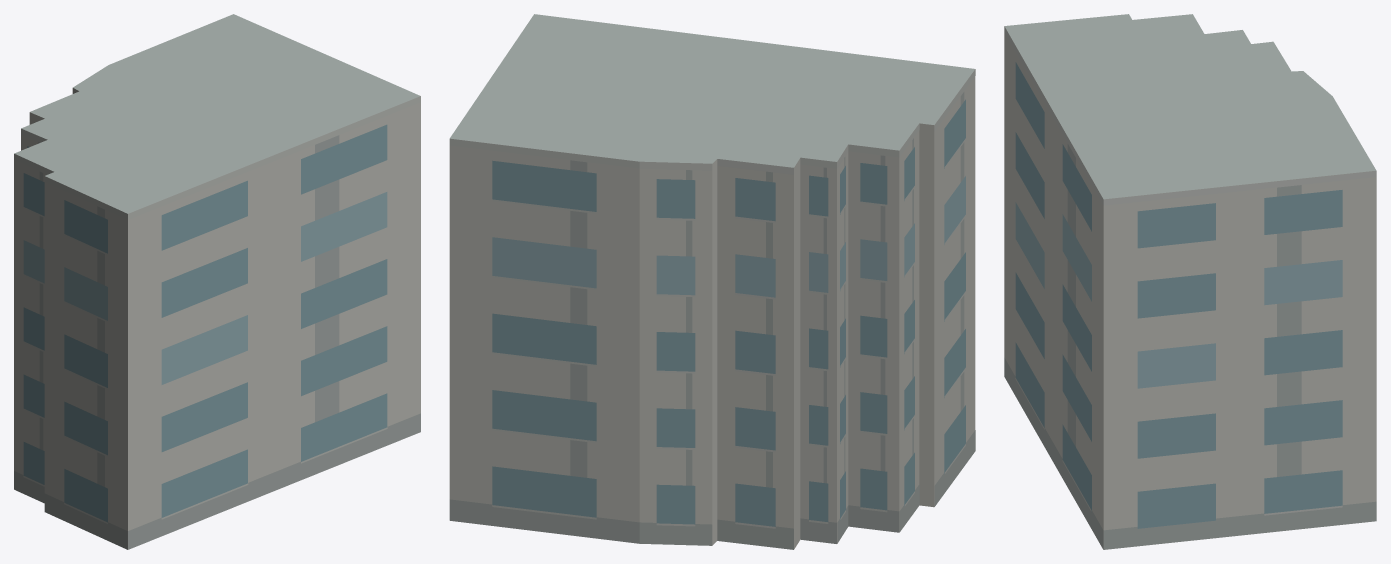
Rendered from survey-upis-32639894.glb.
The picture shows the model from 3 angles, left to right: view 1: azimuth 30°, elevation 25°; view 2: azimuth 150°, elevation 25°; view 3: azimuth 270°, elevation 25°; orthographic projection. The views are drawn at different scales.
Visible parts, largest first — view 1: survey-upis-32639894.tmp; view 2: survey-upis-32639894.tmp; view 3: survey-upis-32639894.tmp.
Part boxes in pixels (bbox=[...]): survey-upis-32639894.tmp: bbox=[14, 14, 420, 549]; survey-upis-32639894.tmp: bbox=[449, 14, 975, 549]; survey-upis-32639894.tmp: bbox=[1004, 14, 1376, 549].
Size of the model in its own units: 14.98 by 13.2 by 12.71.
